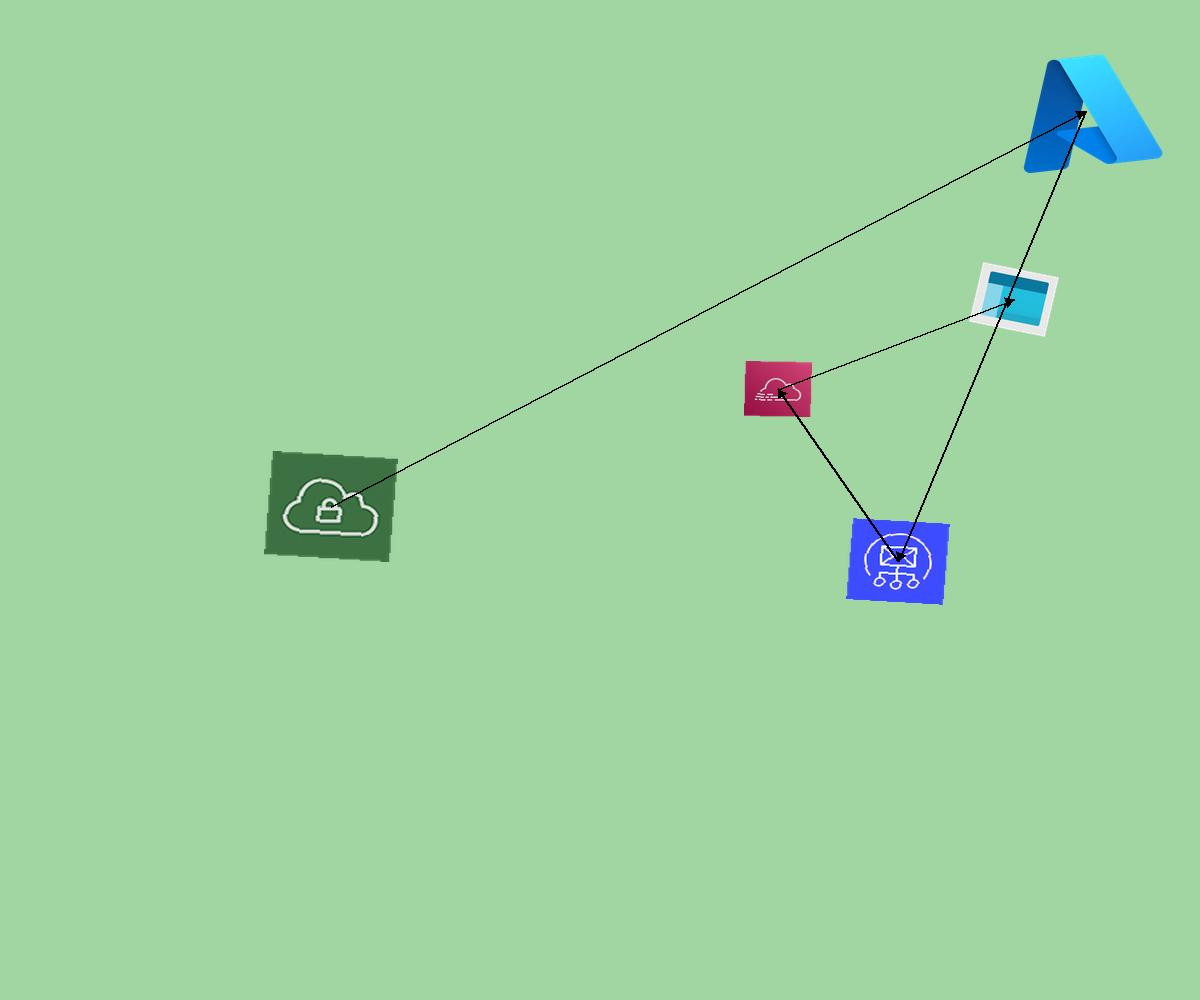AWS-CloudTrail: (744, 361, 812, 417)
AWS-Private_vpc: (264, 451, 398, 562)
AWS-Simple-Email-Service: (846, 518, 950, 605)
Azure_management-portal: (969, 262, 1059, 337)
Azure_services: (999, 40, 1171, 183)
